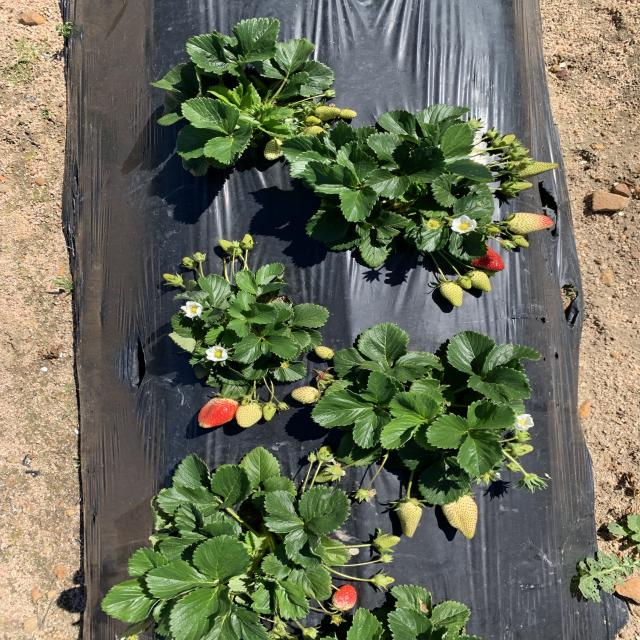unripe: (461, 239, 507, 272), (194, 396, 238, 427), (330, 583, 357, 611)
